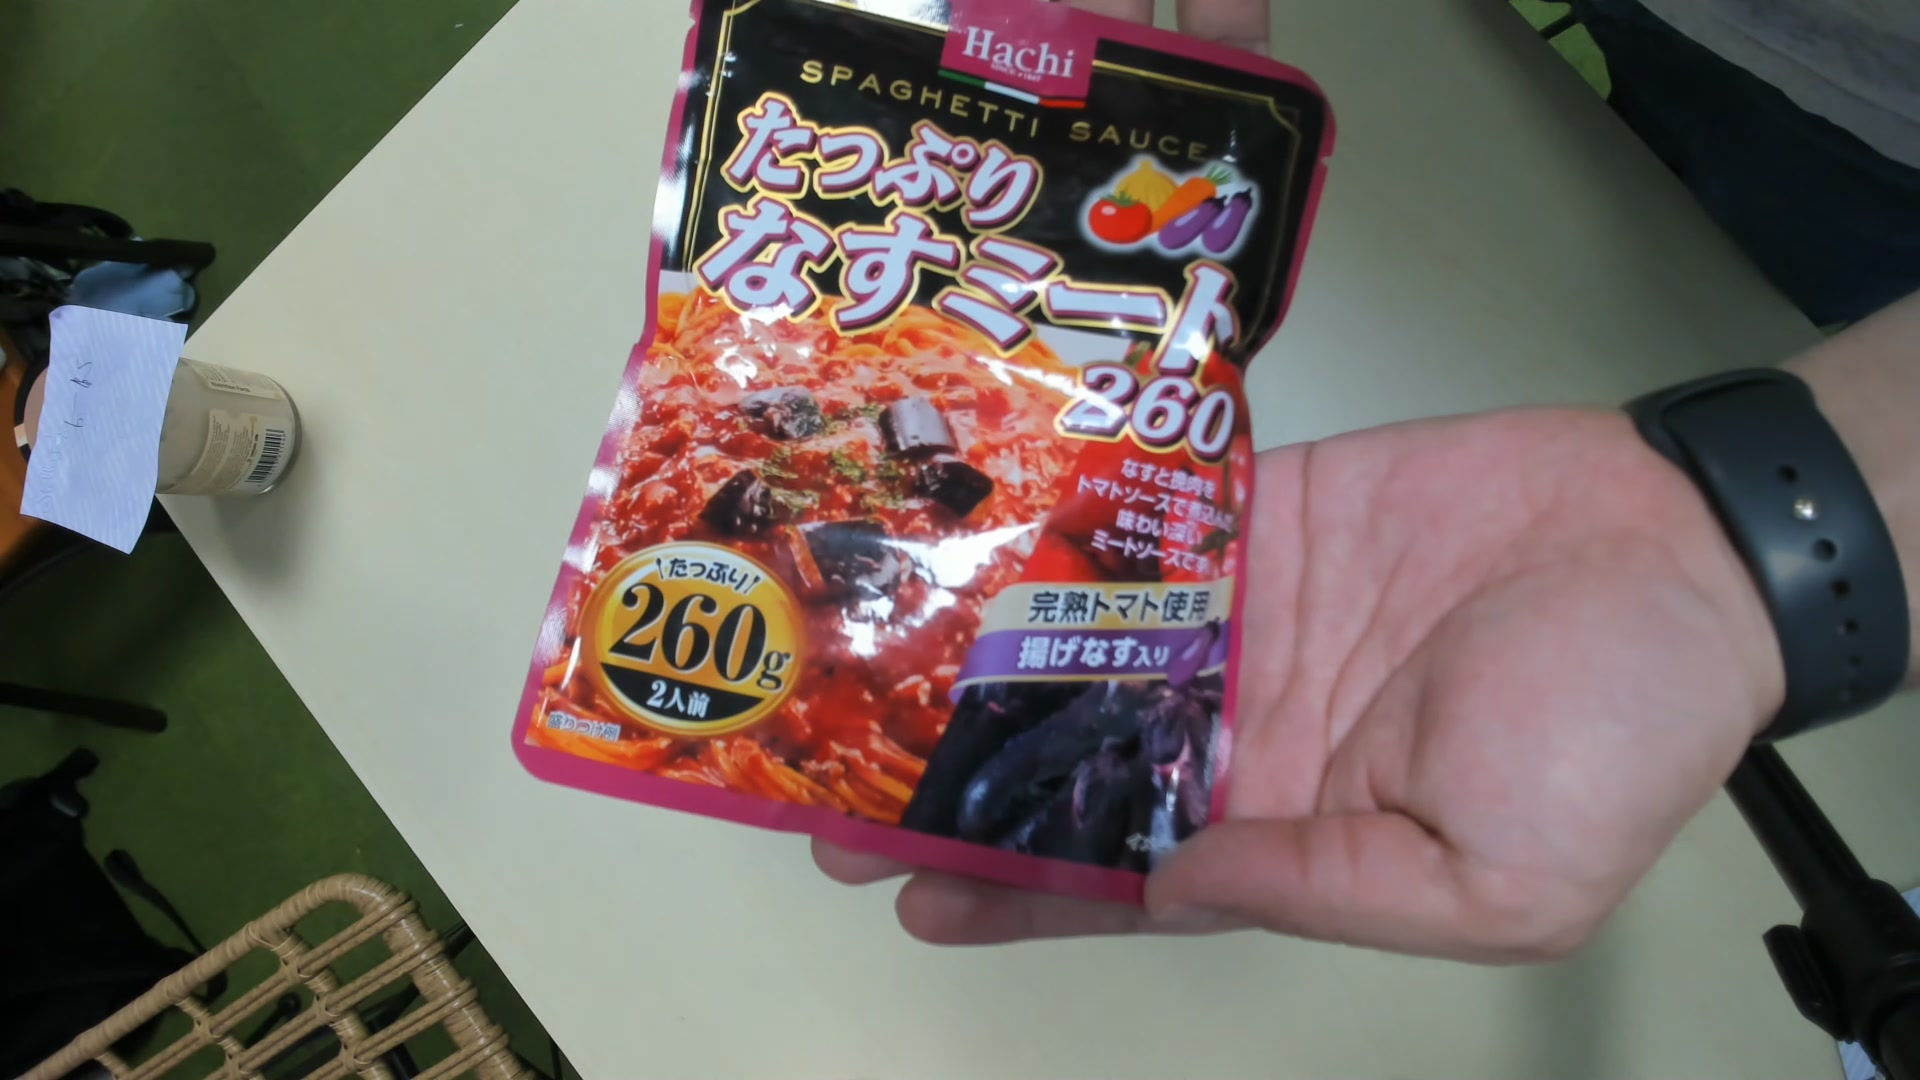PastaSauce_200-299g_NonHalal_NonHealthy: (545, 1, 1305, 889)
